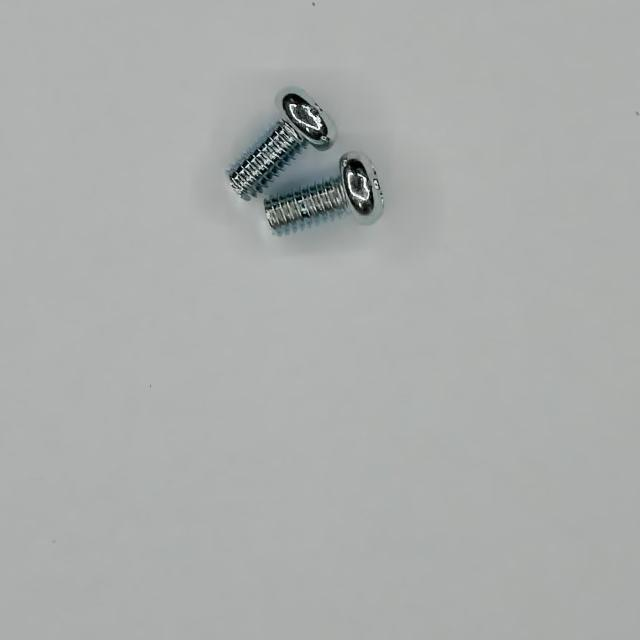Screw: (228, 87, 335, 200), (266, 152, 384, 234)
